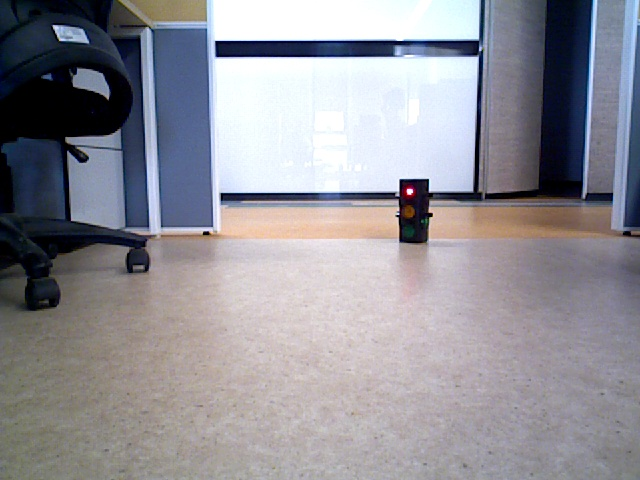red: (399, 180, 424, 238)
